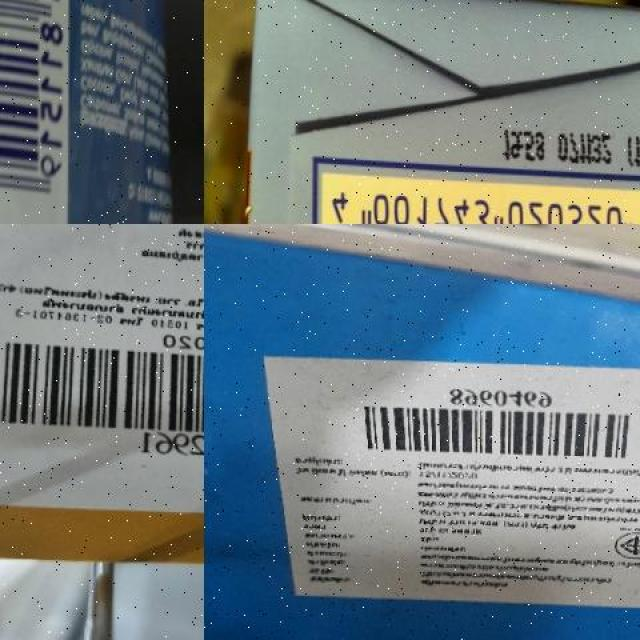Barcode: (0, 339, 204, 464), (346, 378, 640, 462), (318, 174, 640, 224), (0, 0, 71, 224)
